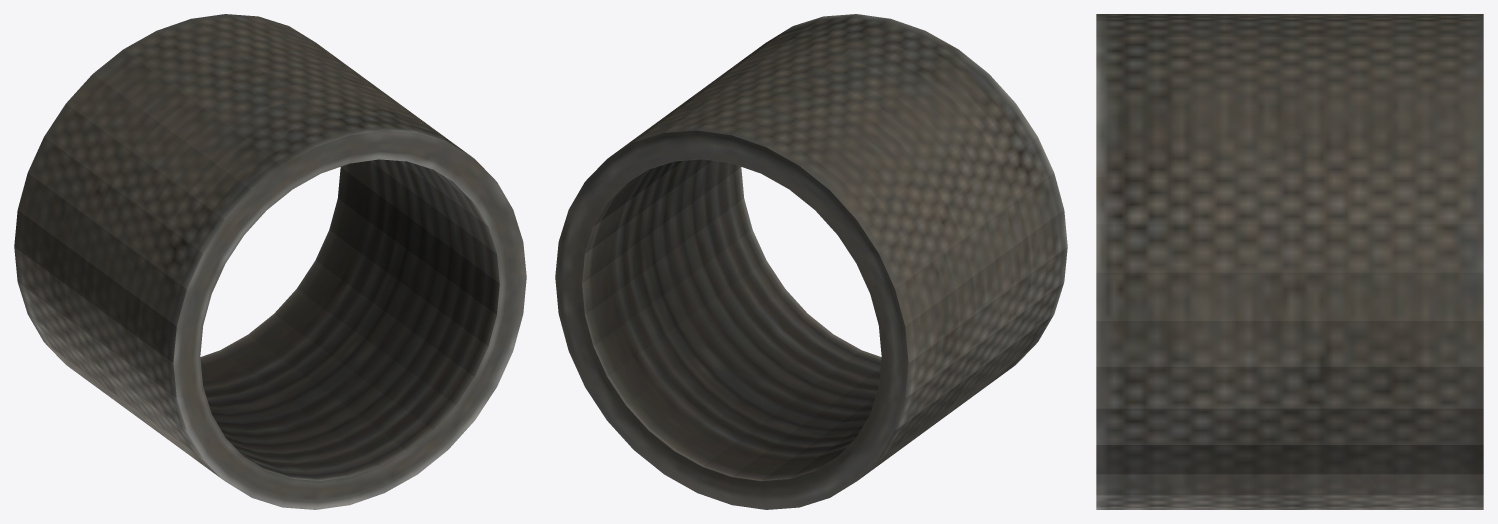
The picture shows the model from 3 angles, left to right: view 1: azimuth 30°, elevation 25°; view 2: azimuth 150°, elevation 25°; view 3: azimuth 270°, elevation 25°; orthographic projection. The views are drawn at different scales.
Visible parts, largest first — view 1: TW_5cadc390ae921500126a77f1_PZ_Import; view 2: TW_5cadc390ae921500126a77f1_PZ_Import; view 3: TW_5cadc390ae921500126a77f1_PZ_Import.
Boxes of the visible parts, x1,y1,x2,y2 form: TW_5cadc390ae921500126a77f1_PZ_Import: (14,14,526,509); TW_5cadc390ae921500126a77f1_PZ_Import: (555,14,1067,509); TW_5cadc390ae921500126a77f1_PZ_Import: (1096,14,1483,509).
Size of the model in its own units: 0.00817 by 0.00637 by 0.00817.
1 material, 1 textured.
